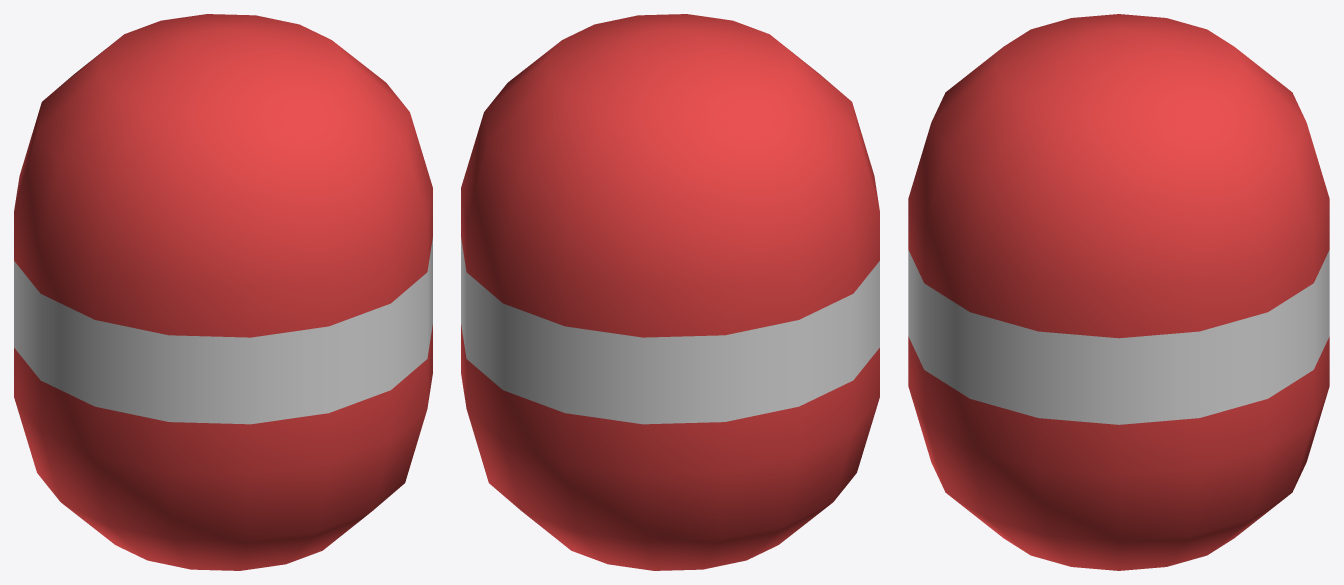
Rendered from Broke.fbx.
3 views of the same model, side by side, from view 1: azimuth 30°, elevation 25°; view 2: azimuth 150°, elevation 25°; view 3: azimuth 270°, elevation 25° (orthographic).
Visible parts, largest first — view 1: Broke; view 2: Broke; view 3: Broke.
Part boxes in pixels (left/top/right/bottom): Broke: left=14, top=14, right=432, bottom=570; Broke: left=461, top=14, right=879, bottom=570; Broke: left=908, top=14, right=1329, bottom=570.
Size of the model in its own units: 0.3246 by 0.4184 by 0.3246.
